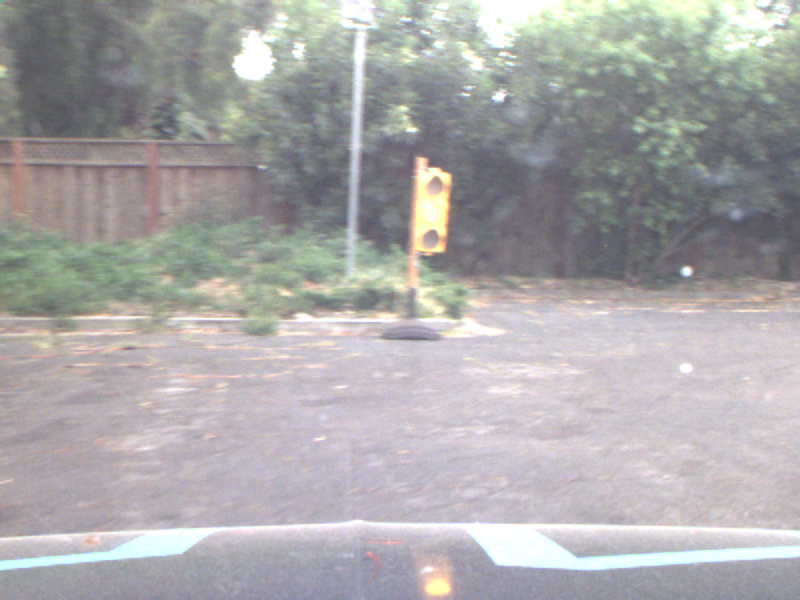Yellow: (412, 169, 443, 254)
